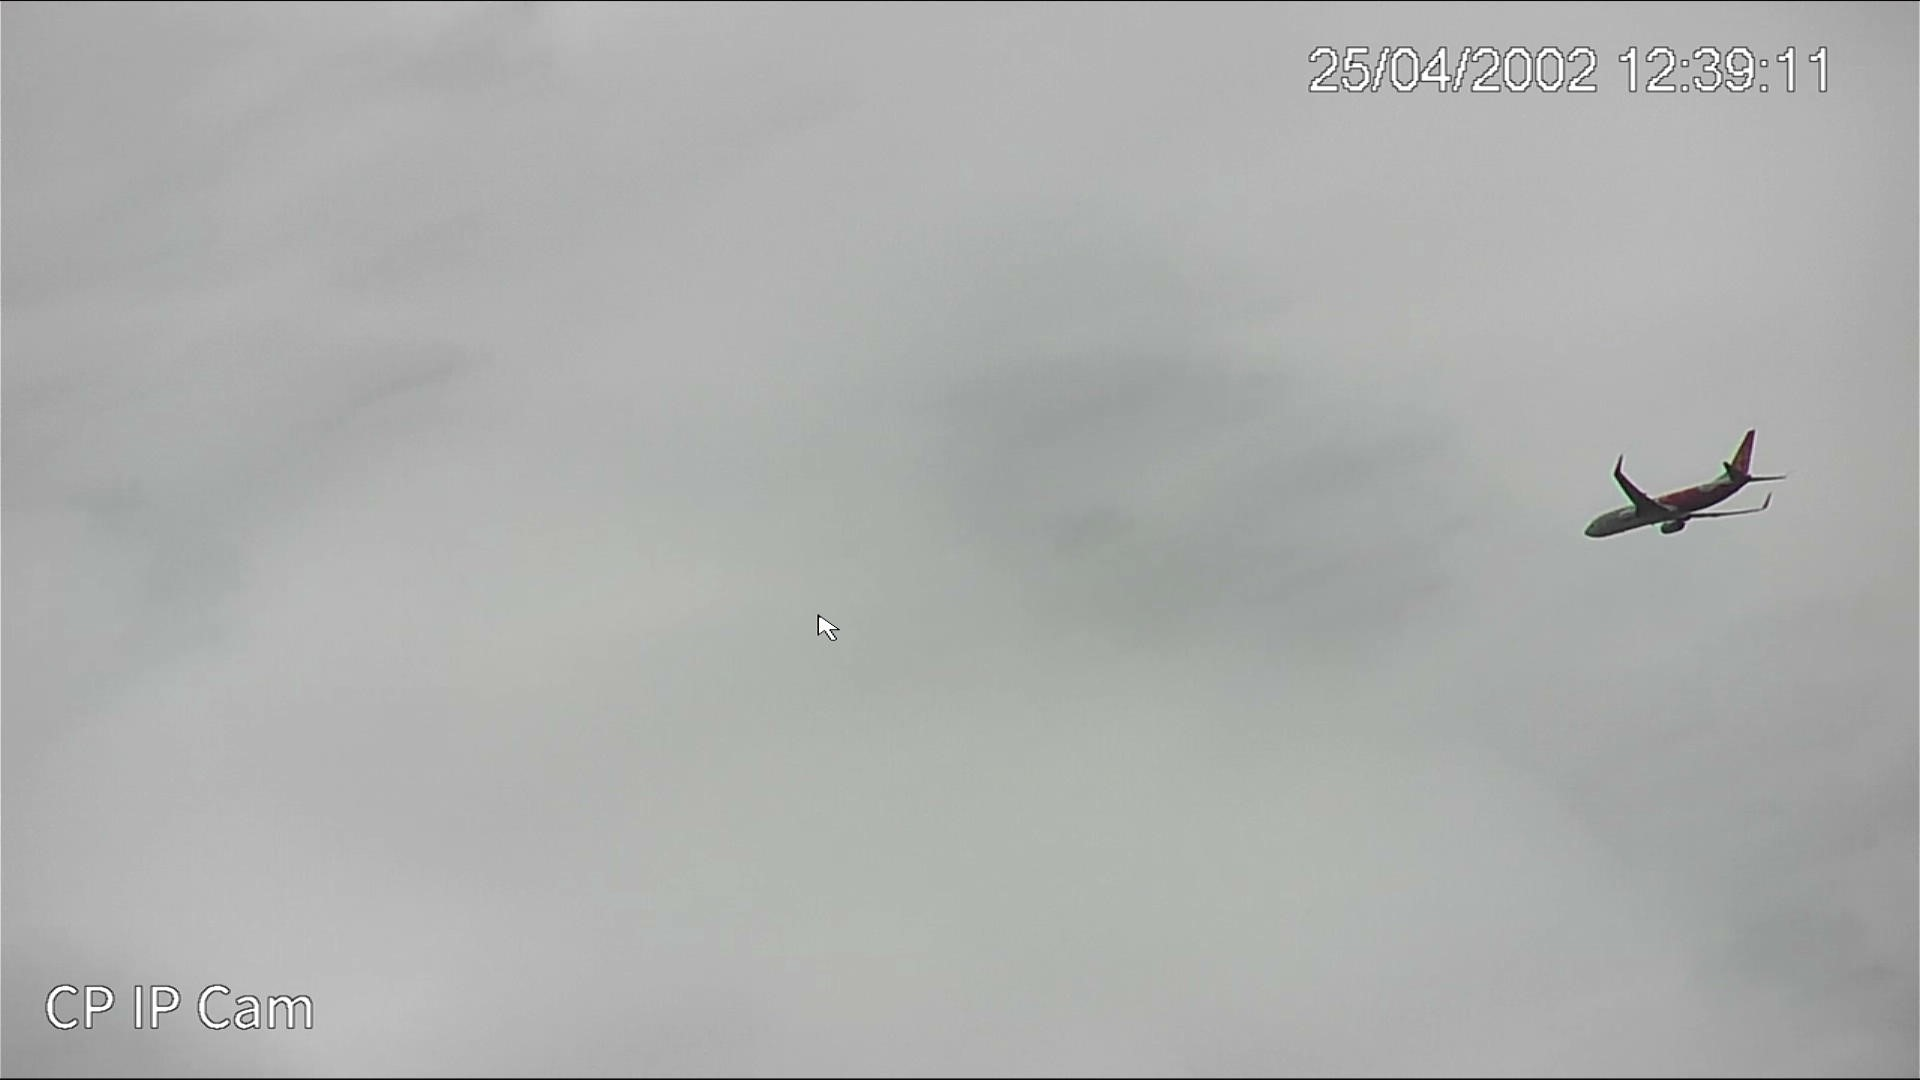SU_30: (1577, 431, 1793, 545)
